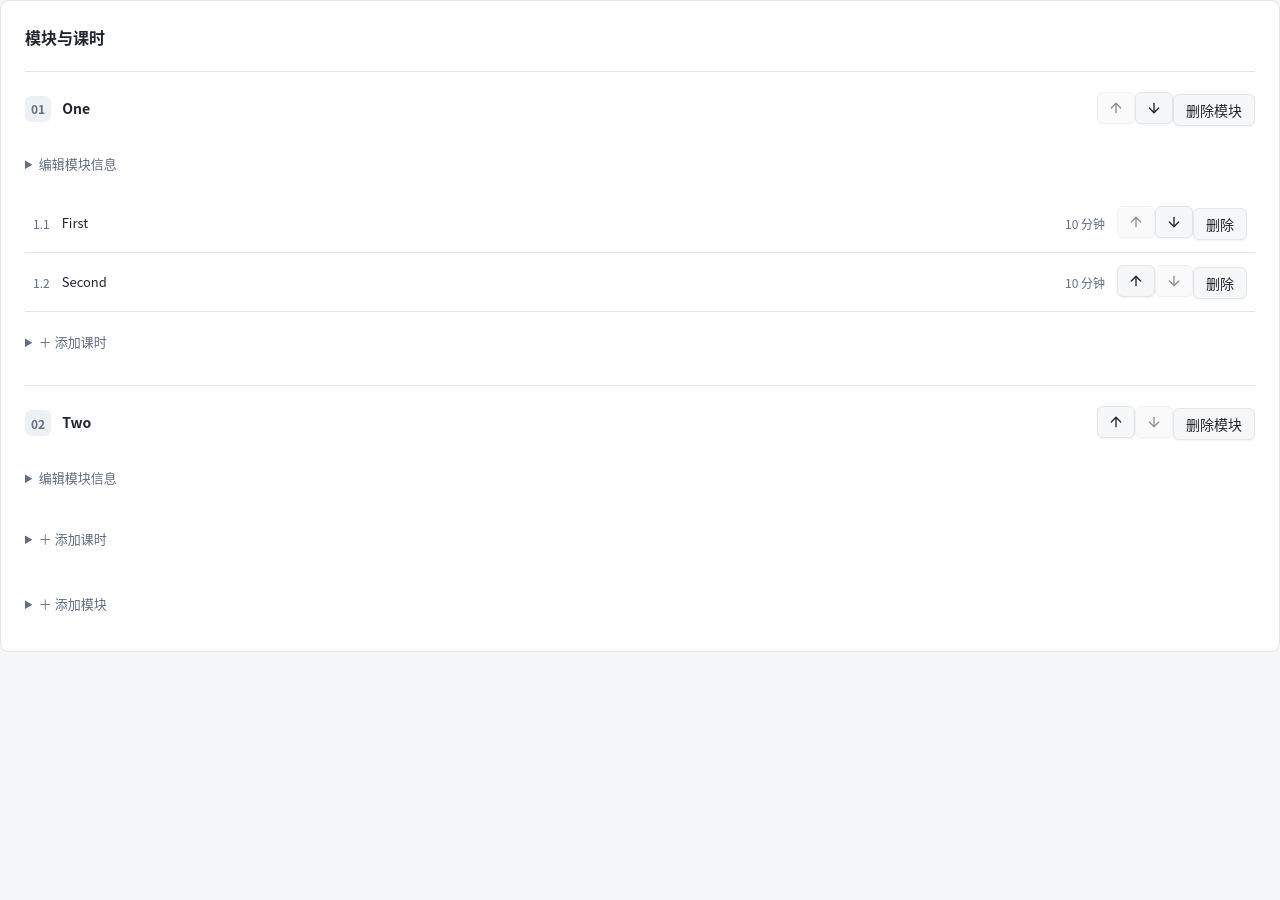
Test case: unlocks directory operations after a rejected request without refreshing
Click the button named "Two模块上移" at (1116, 422), box [1097,406,1135,438]
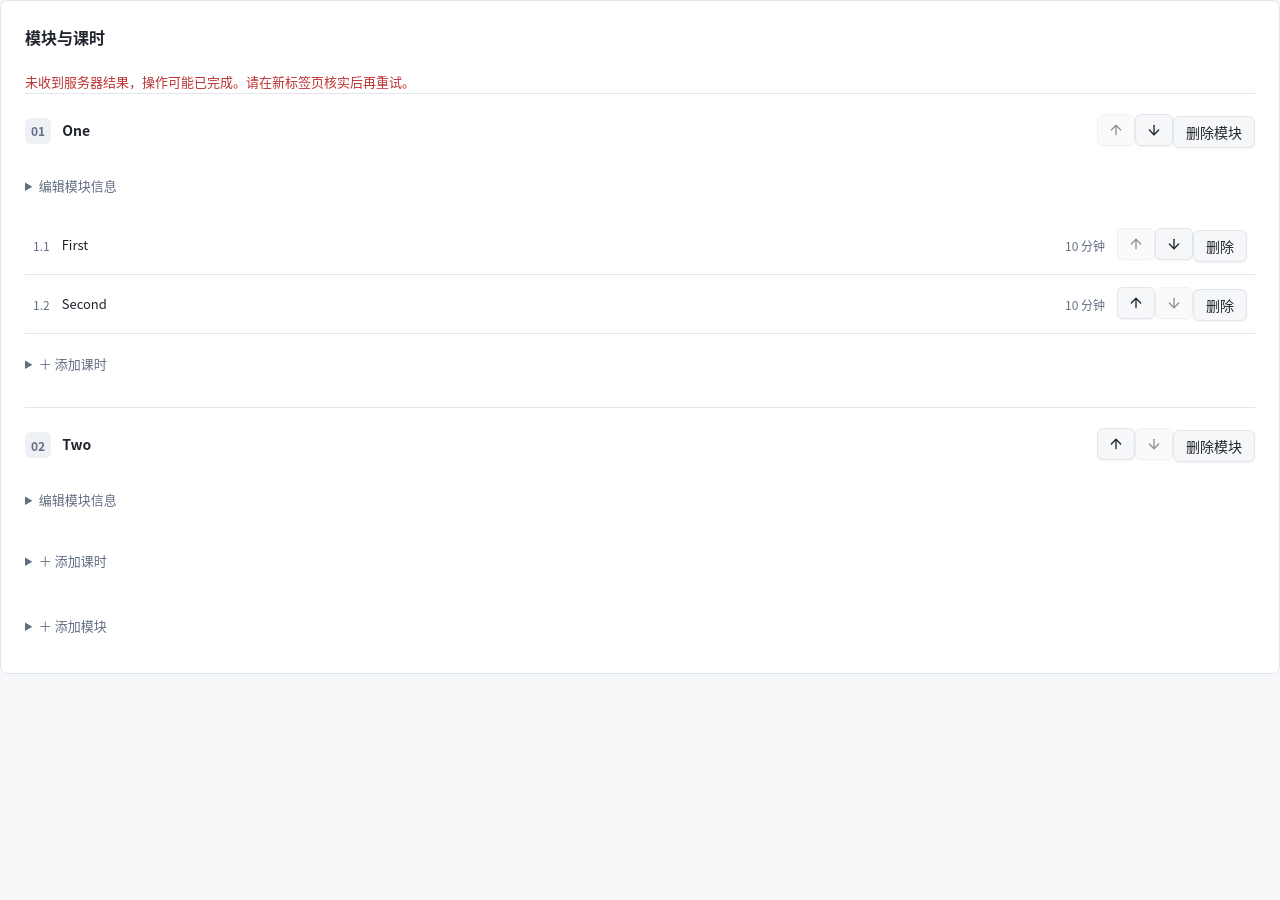
Expected: the button named "Two模块上移" is enabled, [1097,428,1135,460]
Expected: the message shows "操作可能已完成", [25,72,415,91]
